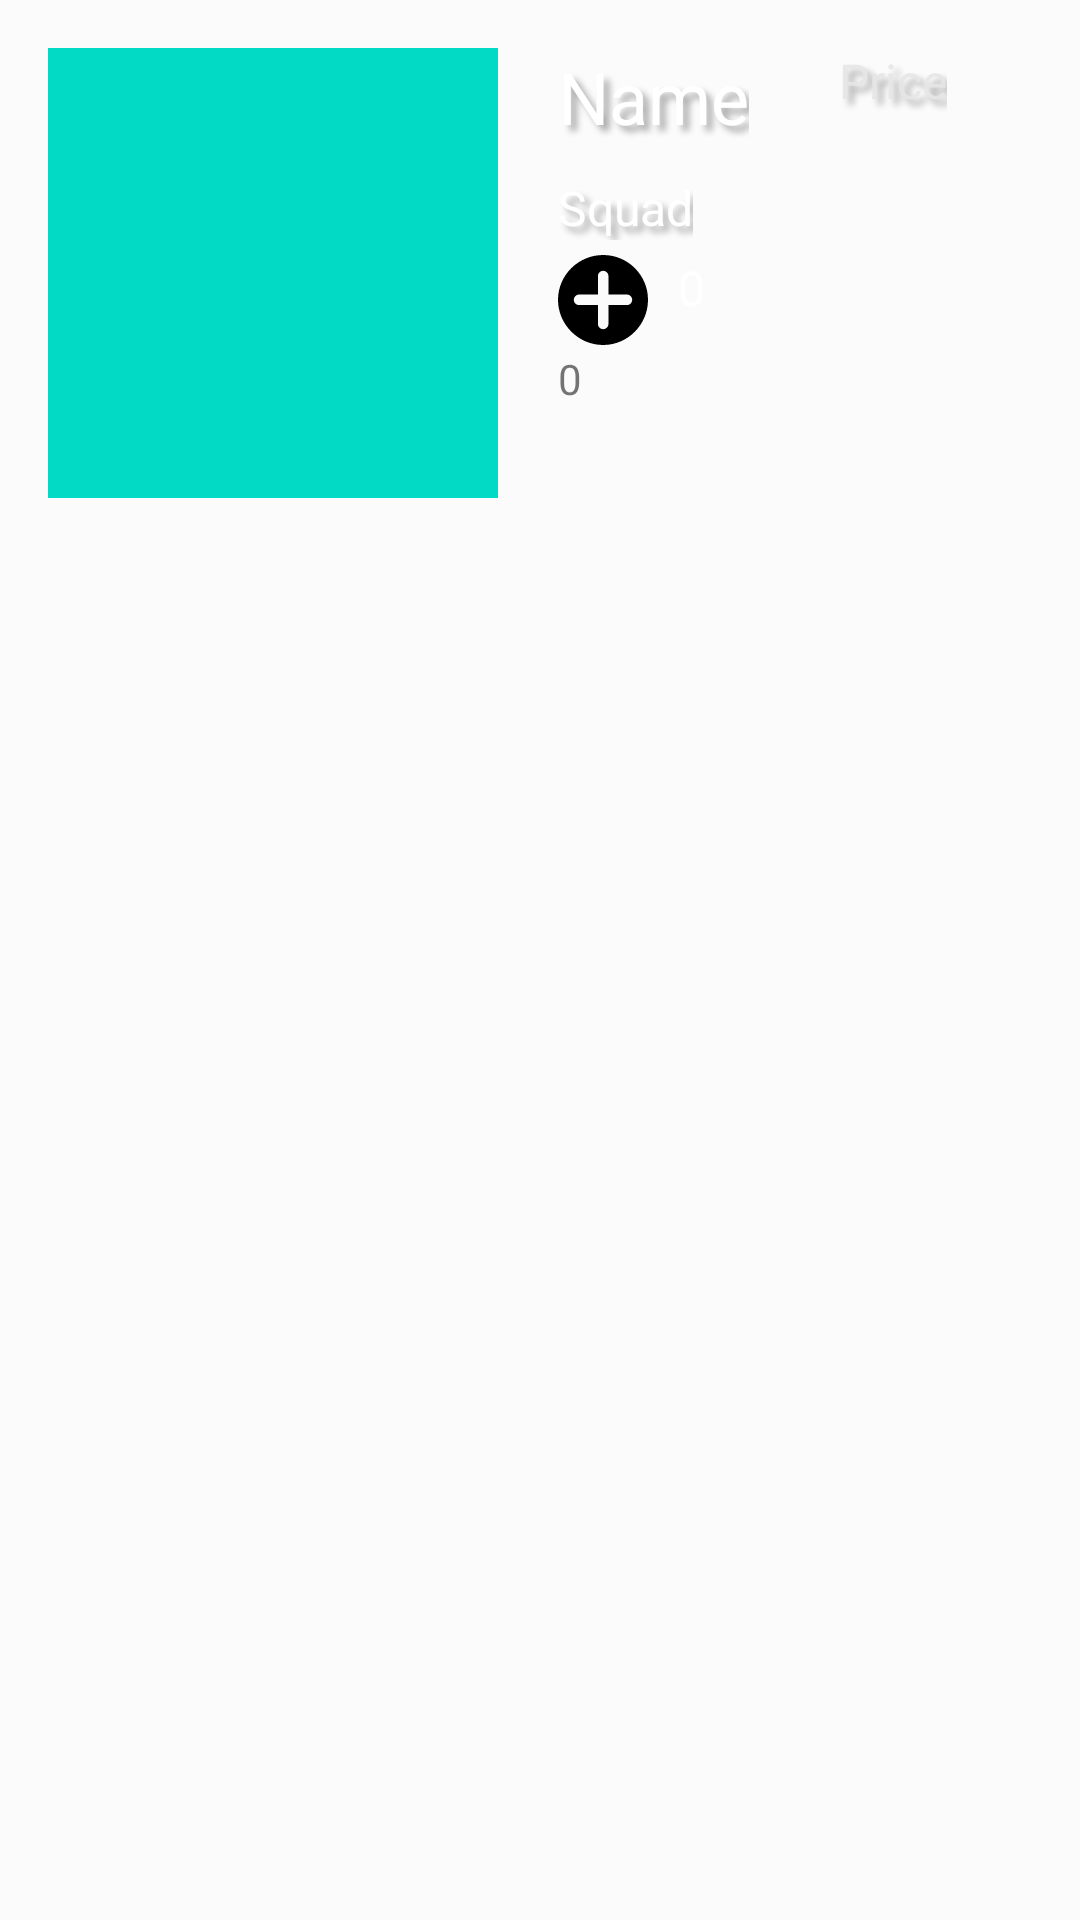

Named icons in this screenshot (1080w x 1920h) and their bounding boxes, (x1, y1, x2, y2):
add: (558, 255, 648, 345)
